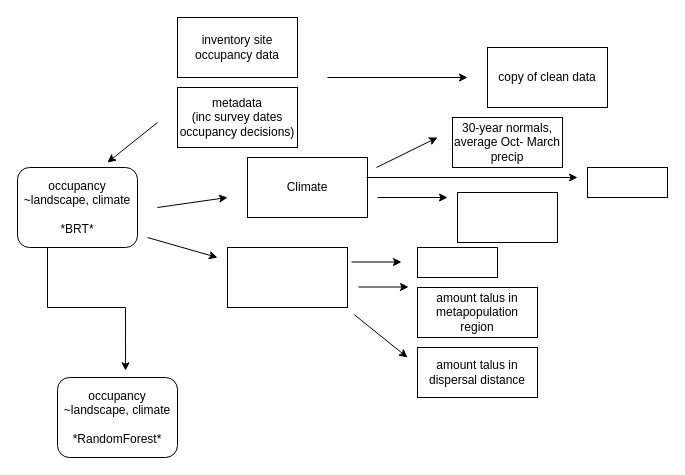
Image size: 685x475. Some labels were removed from this diagram. Each missing label, with the centre of its shape:
"30-year normals, average July temperature" goes at [507,217].
"aet" goes at [627,182].
"Landscape" goes at [287,277].
"talus patch size" goes at [457,262].
